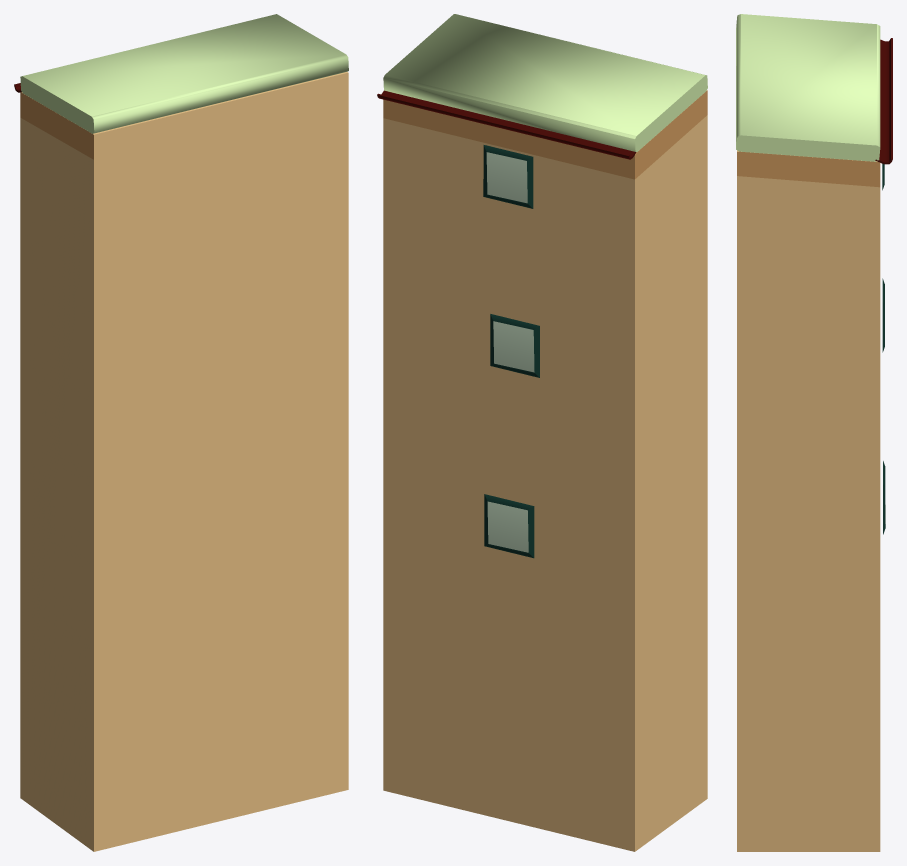
File: house_03.fbx
The picture shows the model from 3 angles, left to right: view 1: azimuth 30°, elevation 25°; view 2: azimuth 150°, elevation 25°; view 3: azimuth 270°, elevation 25°; orthographic projection. The views are drawn at different scales.
Visible parts, largest first — view 1: house_03; view 2: house_03; view 3: house_03.
Boxes of the visible parts, <box> form: house_03: <box>14,14,348,851</box>; house_03: <box>377,14,707,851</box>; house_03: <box>736,14,892,851</box>.
Size of the model in its own units: 20 by 55.06 by 10.92.
